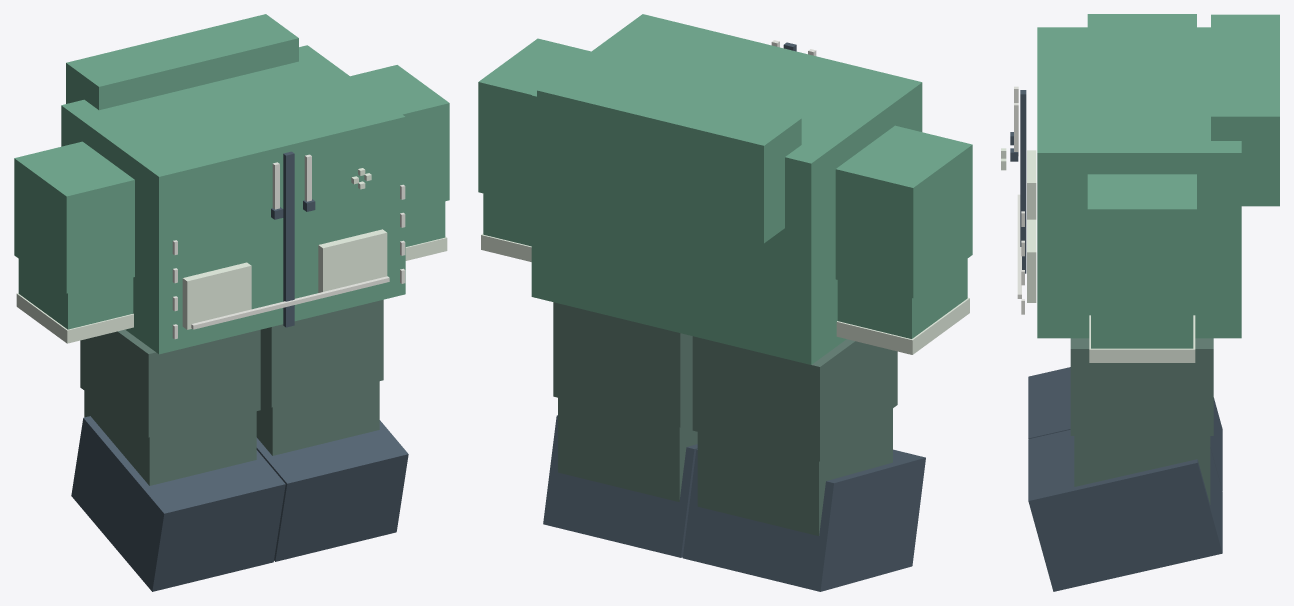
File: hoodie-emerald.glb
The picture shows the model from 3 angles, left to right: view 1: azimuth 30°, elevation 25°; view 2: azimuth 150°, elevation 25°; view 3: azimuth 270°, elevation 25°; orthographic projection. The views are drawn at different scales.
Visible parts, largest first — view 1: jacket, shoe-Right, upper-sleeve-Right, trouser-Right, shoe-Left, hood-back, trouser-Left, lower-trouser-Right, upper-sleeve-Left, lower-trouser-Left, lower-sleeve-Right, pocket--1 (+6 smaller); view 2: jacket, hood-back, upper-sleeve-Right, trouser-Right, shoe-Right, trouser-Left, lower-trouser-Right, lower-trouser-Left, upper-sleeve-Left, shoe-Left, lower-sleeve-Right, cuff-Right (+2 smaller); view 3: jacket, shoe-Left, upper-sleeve-Left, trouser-Left, hood-back, lower-trouser-Left, lower-sleeve-Left, shoe-Right, cuff-Left, upper-sleeve-Right, zip, pocket-1 (+2 smaller).
Part boxes in pixels (x1,y1,x2,y2): jacket: (61, 45, 405, 354); shoe-Right: (71, 416, 285, 591); upper-sleeve-Right: (14, 141, 134, 293); trouser-Right: (80, 329, 260, 437); shoe-Left: (256, 420, 408, 561); hood-back: (66, 14, 298, 110); trouser-Left: (260, 299, 383, 407); lower-trouser-Right: (84, 391, 256, 485); upper-sleeve-Left: (350, 65, 449, 210); lower-trouser-Left: (256, 381, 379, 455); lower-sleeve-Right: (18, 259, 133, 329); pocket--1: (182, 262, 251, 329); jacket: (531, 14, 922, 364); hood-back: (537, 63, 801, 243); upper-sleeve-Right: (835, 125, 972, 298); trouser-Right: (692, 336, 897, 461); shoe-Right: (682, 449, 925, 591); trouser-Left: (553, 302, 692, 427); lower-trouser-Right: (697, 408, 892, 535); lower-trouser-Left: (558, 398, 697, 501); upper-sleeve-Left: (478, 38, 590, 204); shoe-Left: (543, 415, 697, 557); lower-sleeve-Right: (837, 259, 967, 338); cuff-Right: (836, 297, 969, 354); jacket: (1037, 27, 1241, 338); shoe-Left: (1028, 429, 1222, 591); upper-sleeve-Left: (1087, 174, 1196, 310); trouser-Left: (1070, 338, 1213, 435); hood-back: (1211, 14, 1279, 206); lower-trouser-Left: (1074, 436, 1210, 504); lower-sleeve-Left: (1091, 310, 1193, 348); shoe-Right: (1028, 367, 1222, 490); cuff-Left: (1089, 315, 1195, 362); upper-sleeve-Right: (1087, 14, 1196, 27); zip: (1020, 90, 1026, 273); pocket-1: (1027, 219, 1036, 302).
Bounding box in the file's own units: 1.07 × 1.19 × 0.648.
